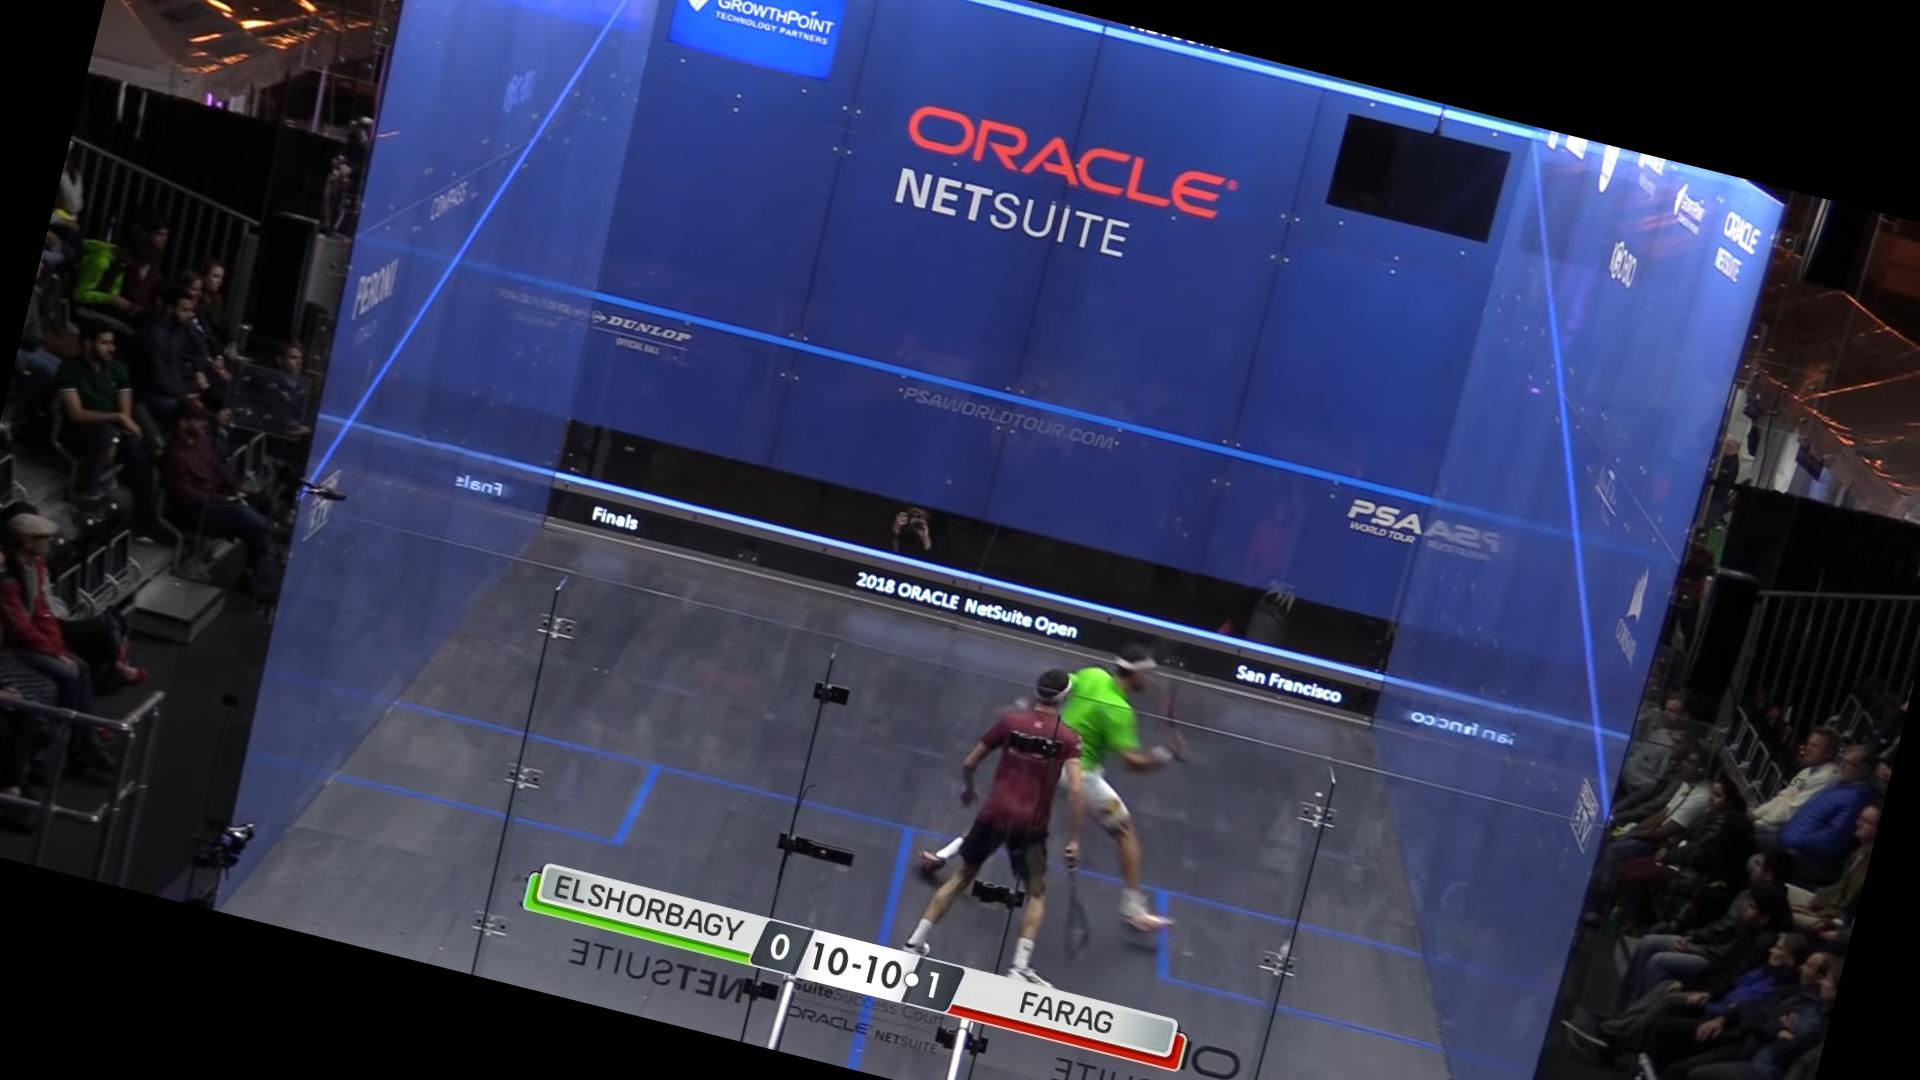Squash-Ball: (1311, 786, 1327, 803)
